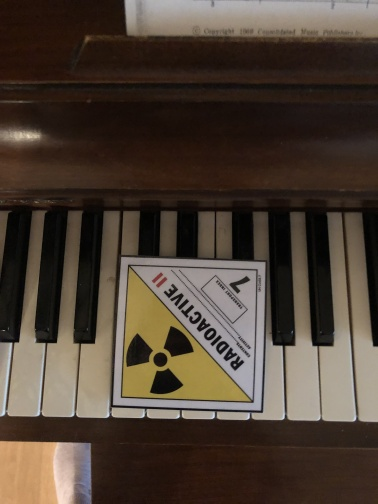Radioactive: (114, 256, 265, 410)
